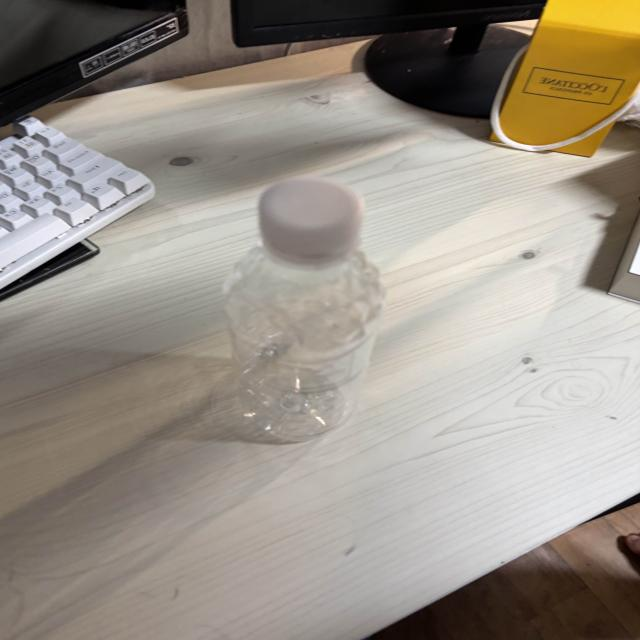Plastic: (197, 148, 426, 458)
